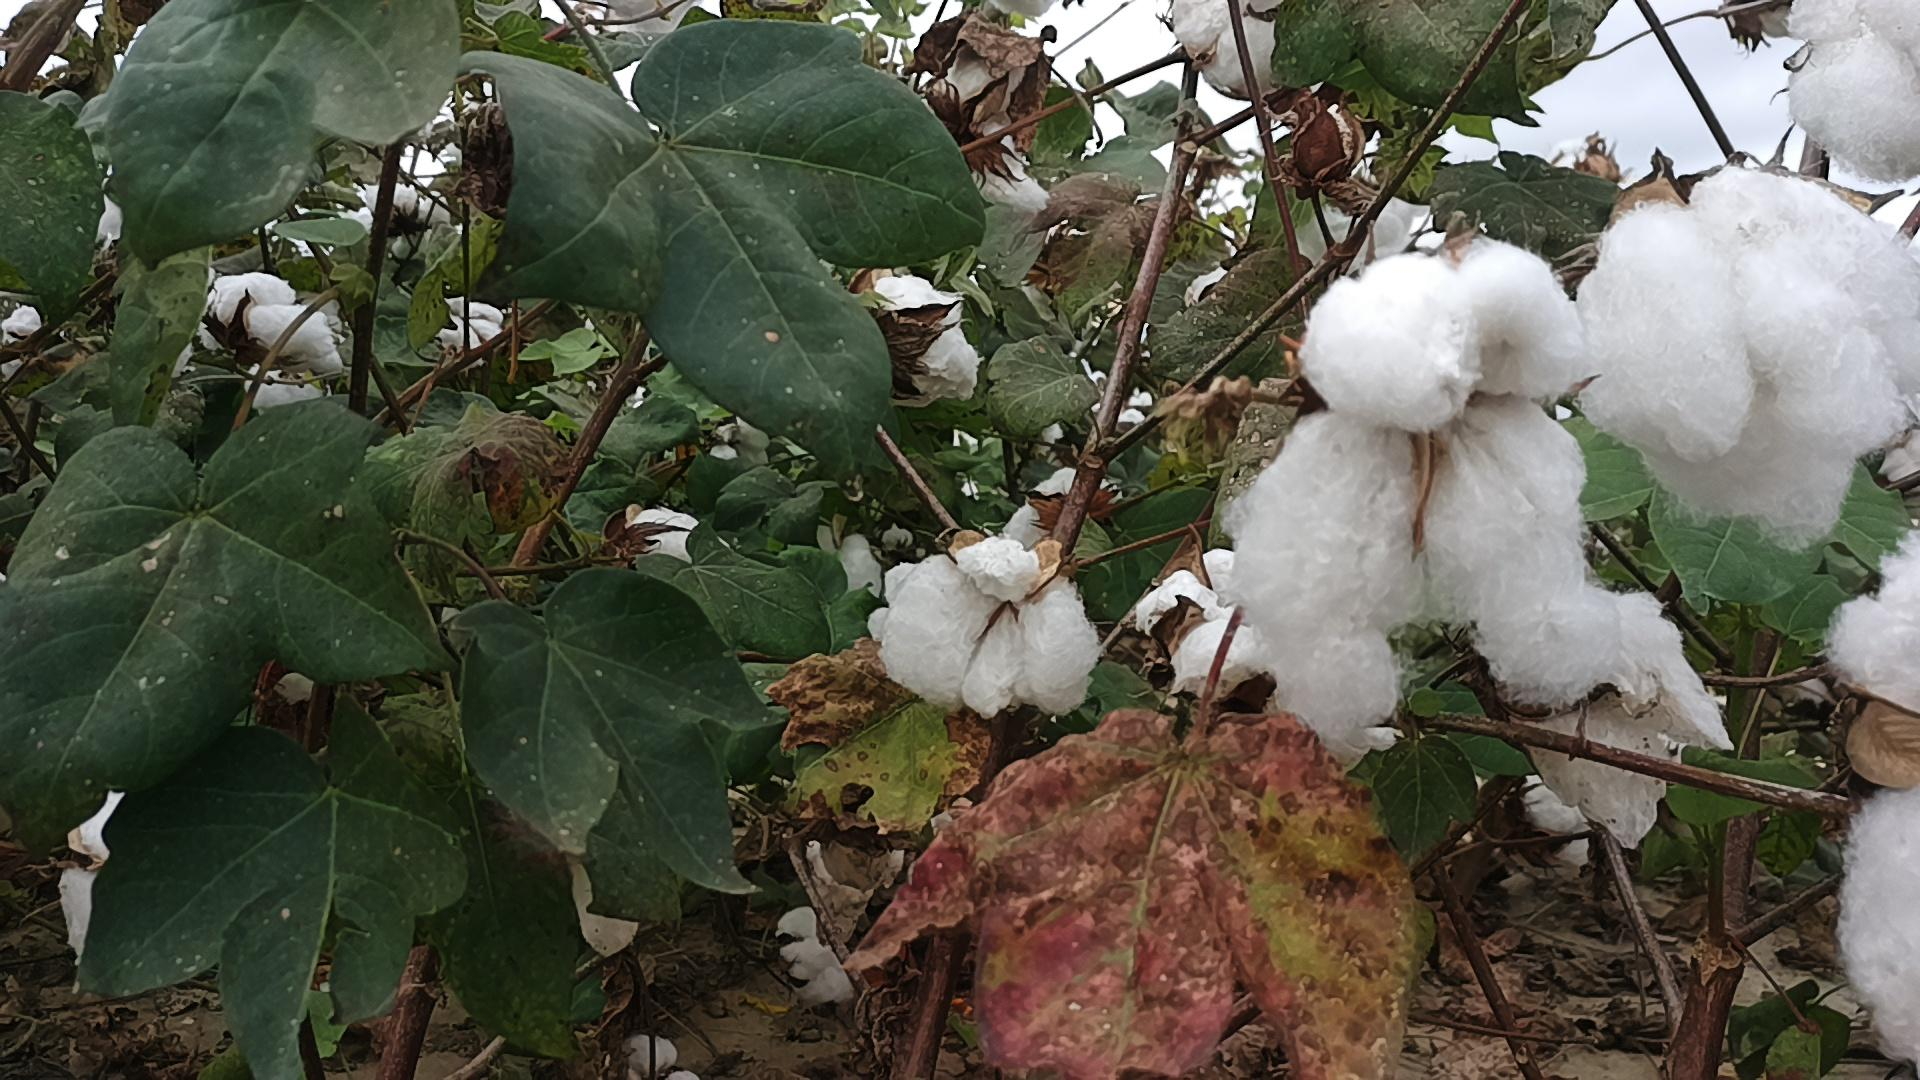cotton_ready: (1234, 236, 1618, 757), (1578, 167, 1920, 551), (1523, 593, 1738, 847), (881, 535, 1100, 715), (171, 268, 348, 409), (1788, 0, 1920, 185), (1133, 549, 1279, 709), (1836, 789, 1920, 1064), (938, 47, 1052, 210), (1825, 526, 1920, 721), (1288, 166, 1428, 276), (55, 790, 128, 969), (873, 273, 973, 400), (1174, 0, 1292, 103), (1503, 770, 1592, 877), (568, 845, 640, 957), (778, 906, 856, 1006), (996, 463, 1088, 545), (833, 530, 918, 599), (618, 508, 713, 564), (609, 1035, 703, 1080)
